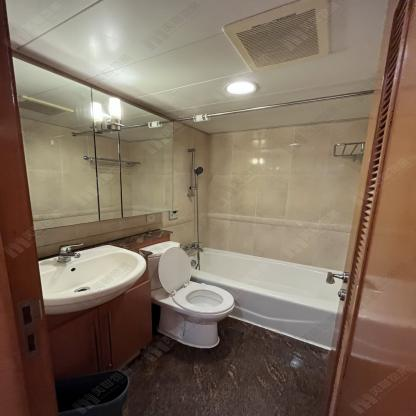Bathtub: (189, 247, 343, 351)
Exhaust Fan: (222, 0, 334, 73)
Faucet: (55, 242, 84, 264)
Toilet: (137, 240, 236, 348)
Toilet Sink: (41, 243, 144, 314)
